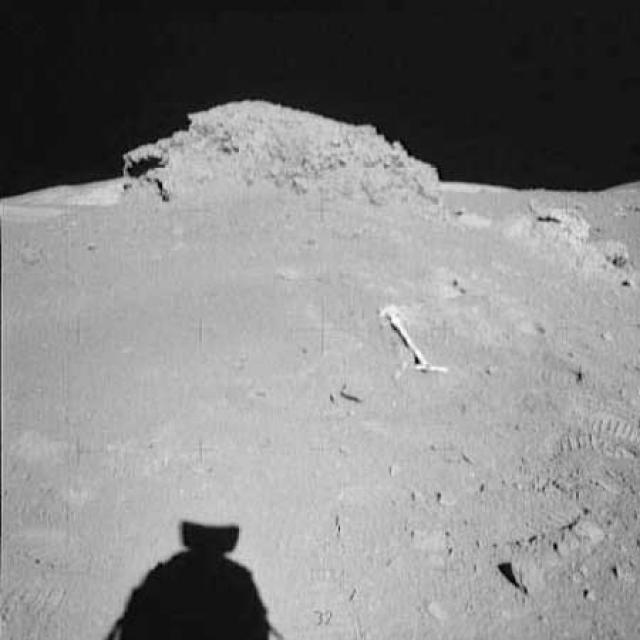artifact: (376, 305, 449, 385)
rock: (105, 90, 448, 216), (519, 192, 594, 242)
